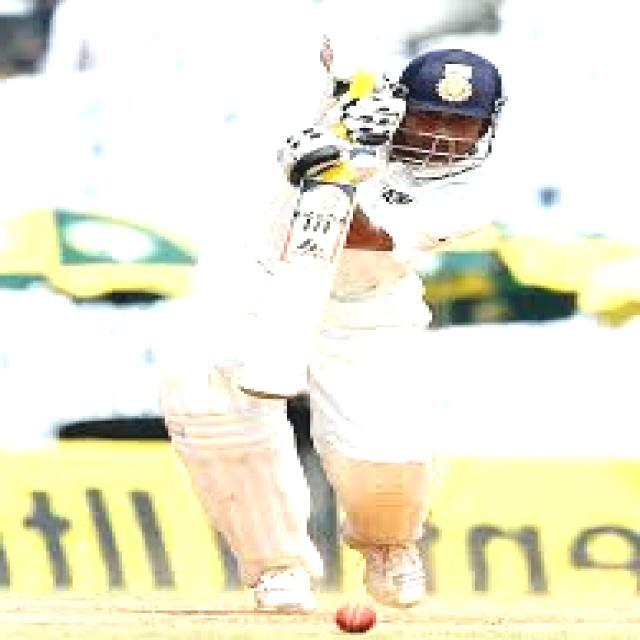bat: (230, 175, 356, 408)
toe: (230, 379, 311, 408)
